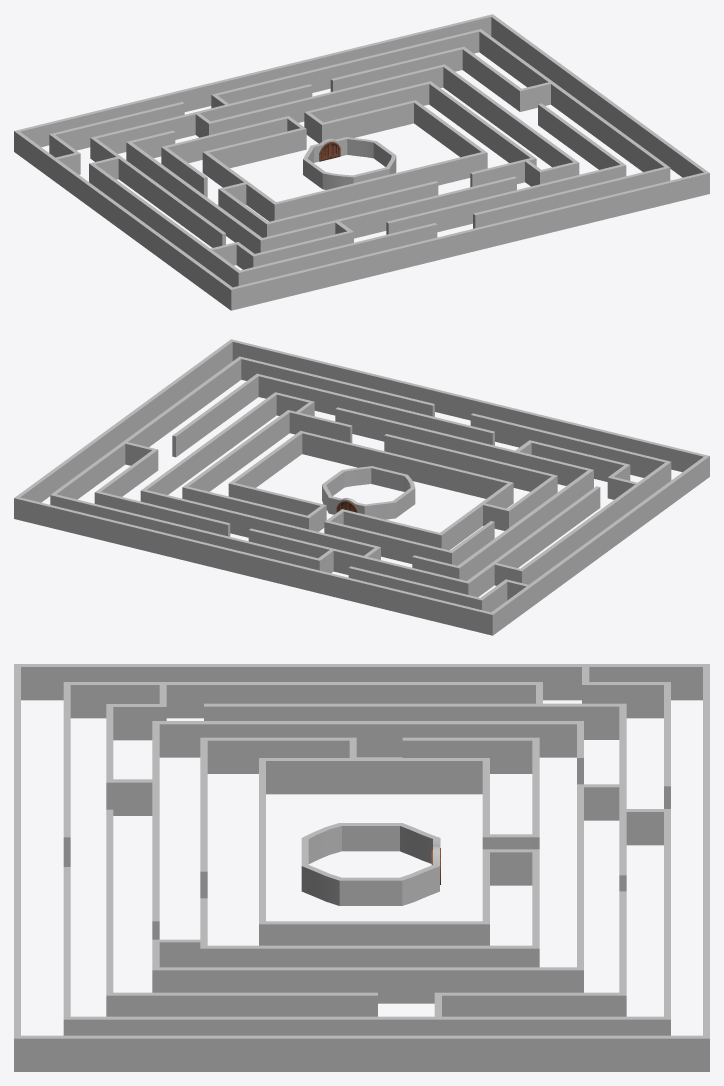
Rendered from Labirinto.fbx.
3 renders of one model, top to bottom at view 1: azimuth 30°, elevation 25°; view 2: azimuth 150°, elevation 25°; view 3: azimuth 270°, elevation 25°, orthographic. The views are drawn at different scales.
Visible parts, largest first — view 1: centro_mapa:Cenario_Centro; view 2: centro_mapa:Cenario_Centro; view 3: centro_mapa:Cenario_Centro.
Boxes of the visible parts, box(x1,y1,x2,y2) form: centro_mapa:Cenario_Centro: box(14, 14, 709, 310); centro_mapa:Cenario_Centro: box(14, 339, 709, 635); centro_mapa:Cenario_Centro: box(14, 664, 709, 1071).
Bounding box in the file's own units: 499 × 20.72 × 392.
